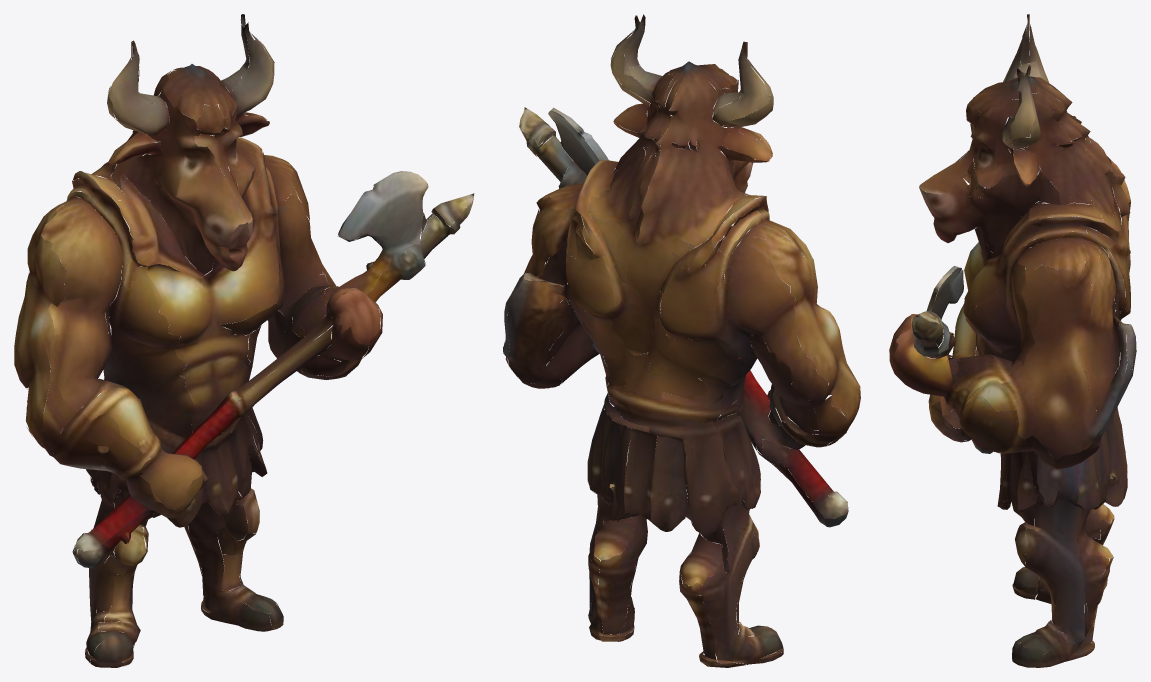
File: minotaur.glb
3 renders of one model, left to right at view 1: azimuth 30°, elevation 25°; view 2: azimuth 150°, elevation 25°; view 3: azimuth 270°, elevation 25°, orthographic. The views are drawn at different scales.
Parts seen in each view (by area): view 1: geometry_0; view 2: geometry_0; view 3: geometry_0.
Part boxes in pixels (left/top/right/bottom): geometry_0: left=14, top=14, right=474, bottom=667; geometry_0: left=503, top=14, right=860, bottom=667; geometry_0: left=889, top=14, right=1136, bottom=667.
Bounding box in the file's own units: 0.6632 × 0.9992 × 0.3821.
Materials: 1 (1 with a texture image).
